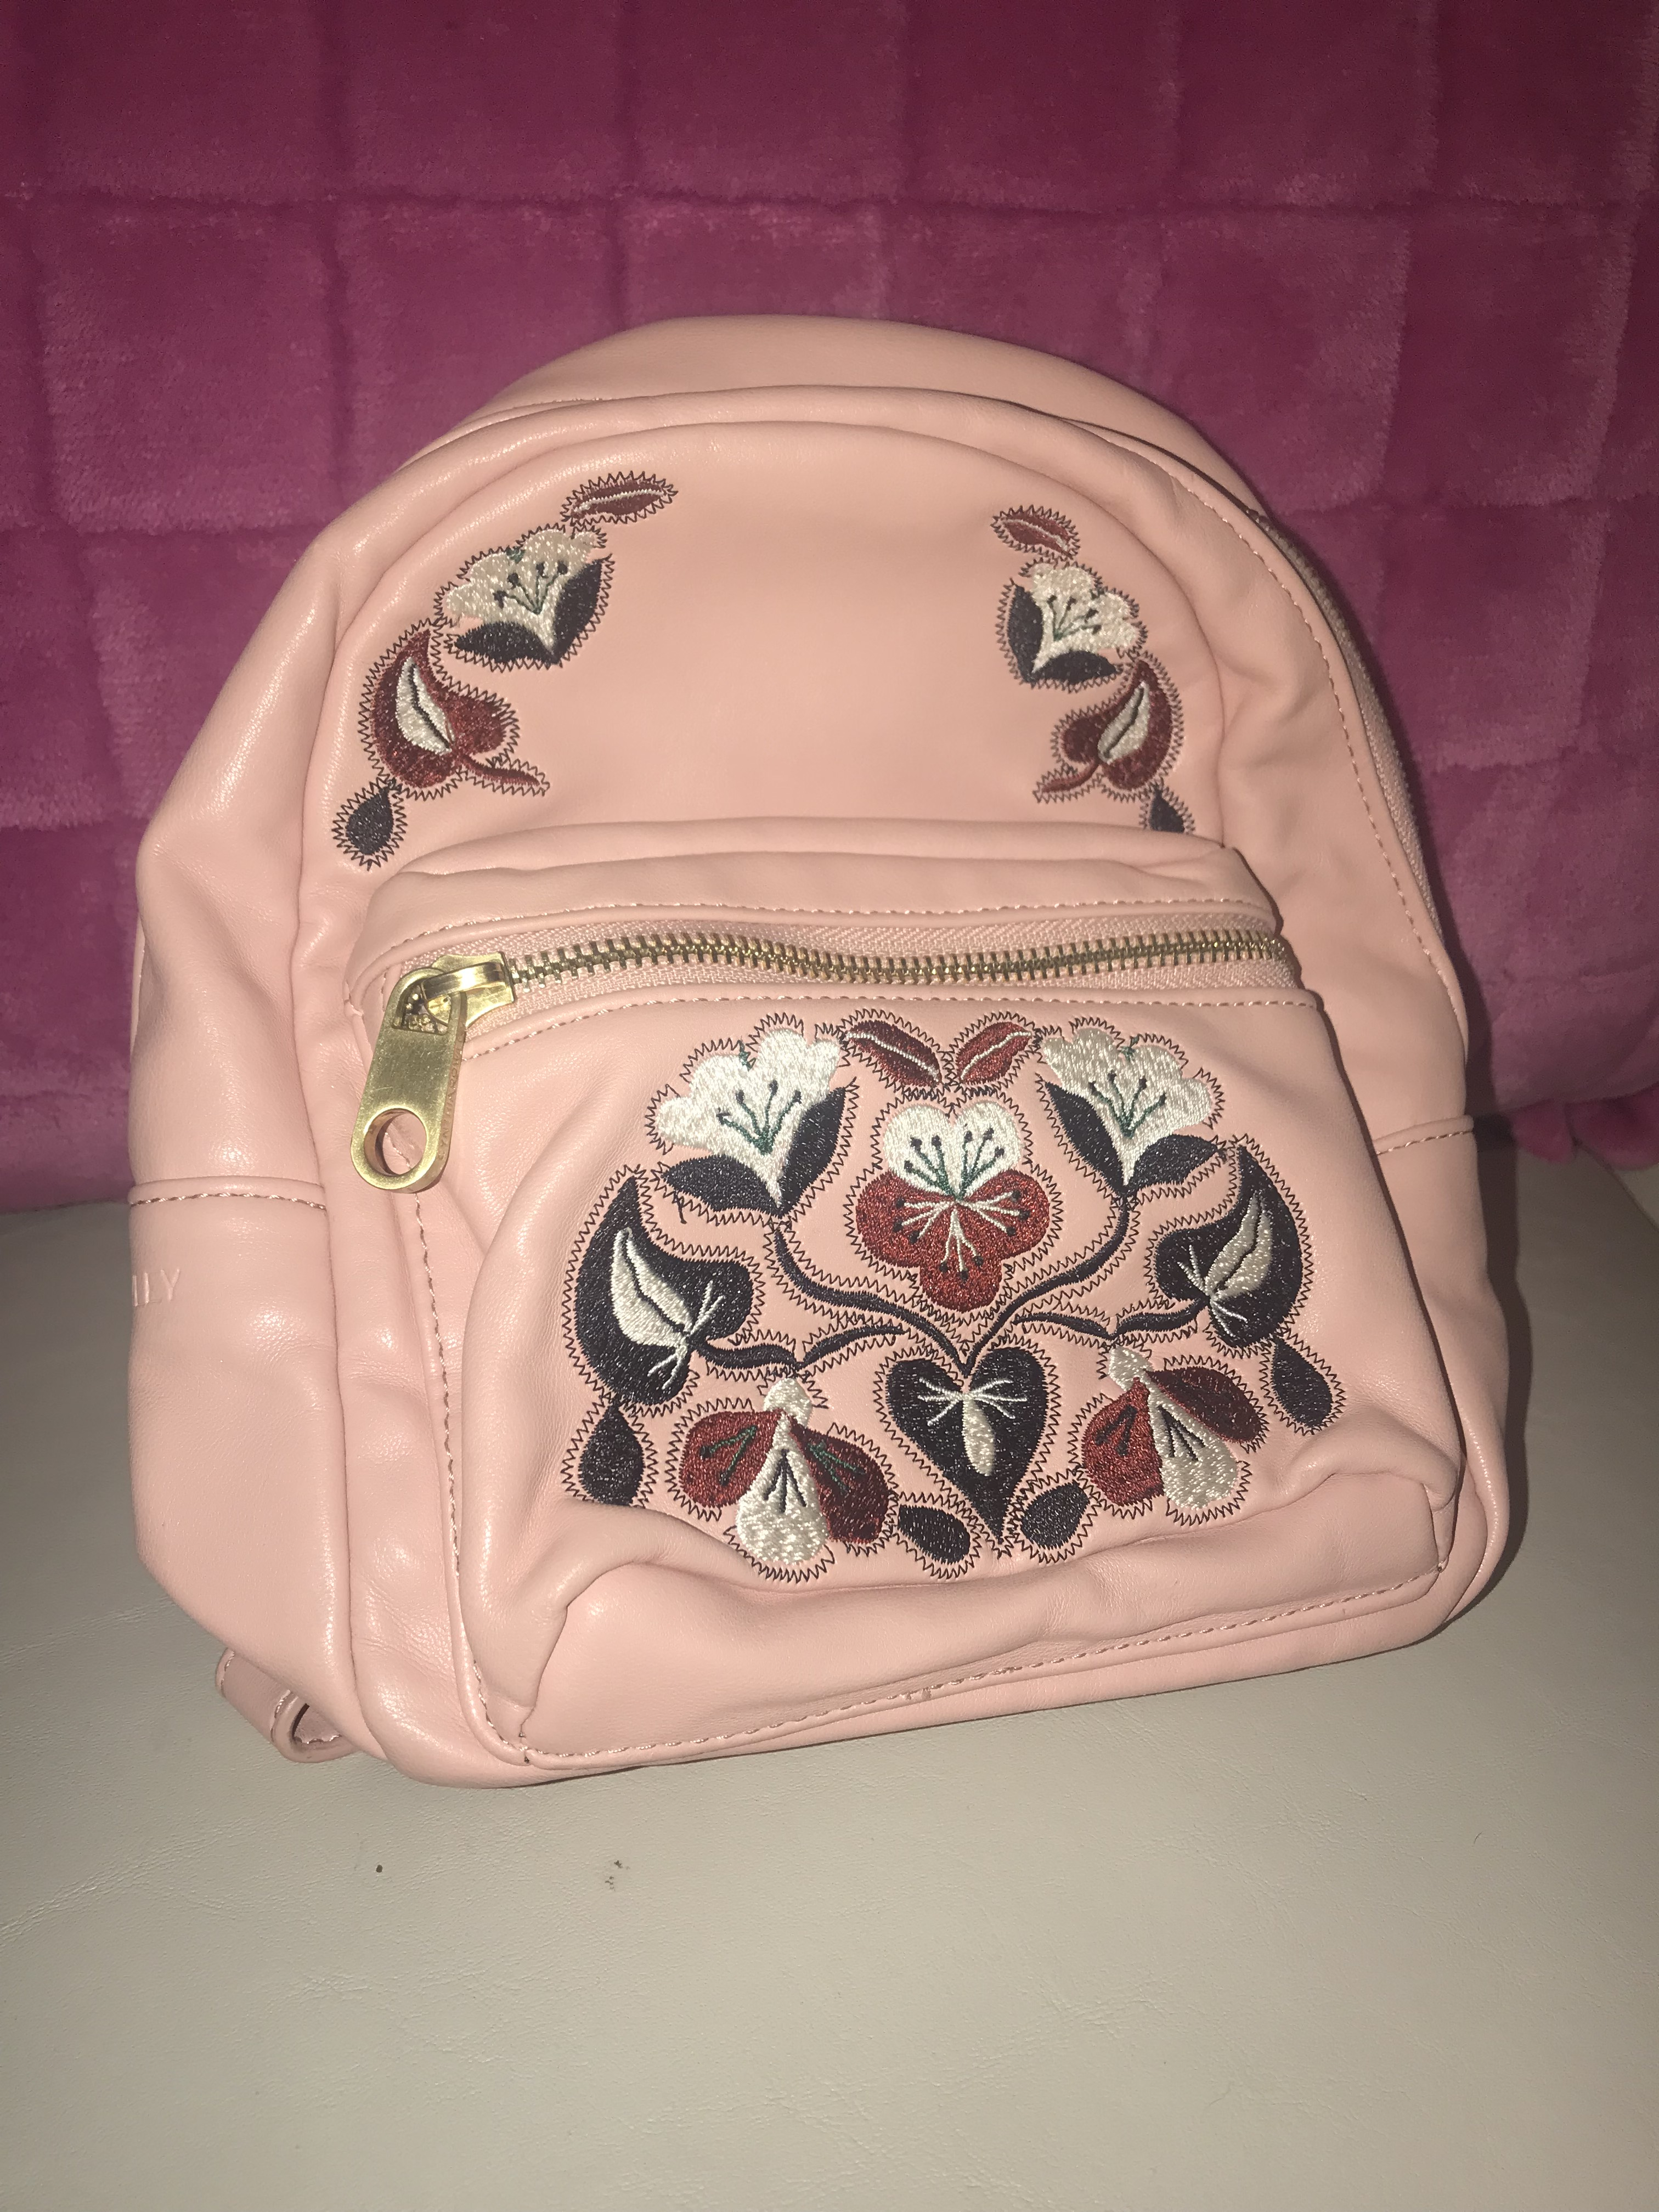cartera: (122, 310, 1532, 1818)
cuero: (171, 1332, 331, 1575)
